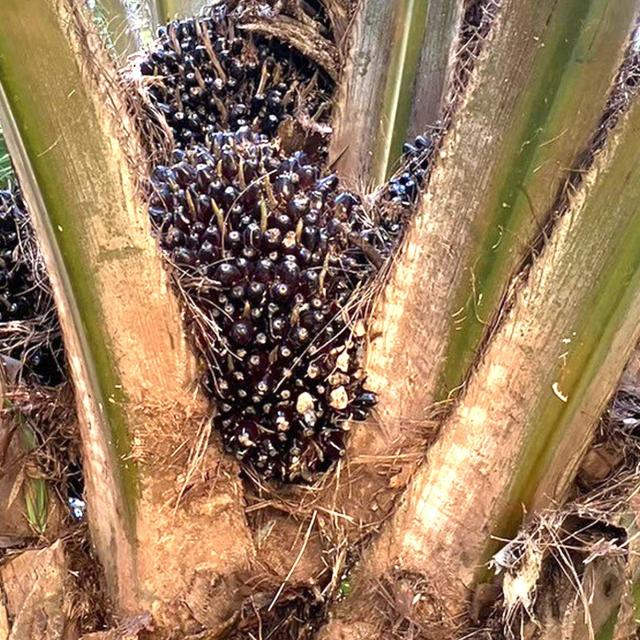almost: (146, 117, 413, 500)
